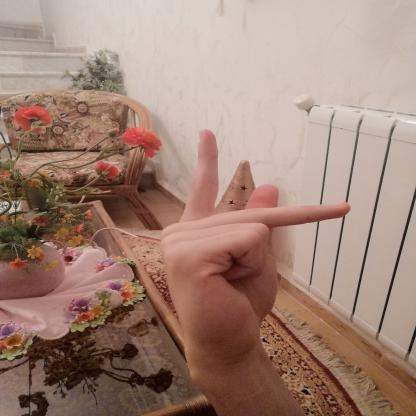DHAA: (147, 120, 364, 374)
